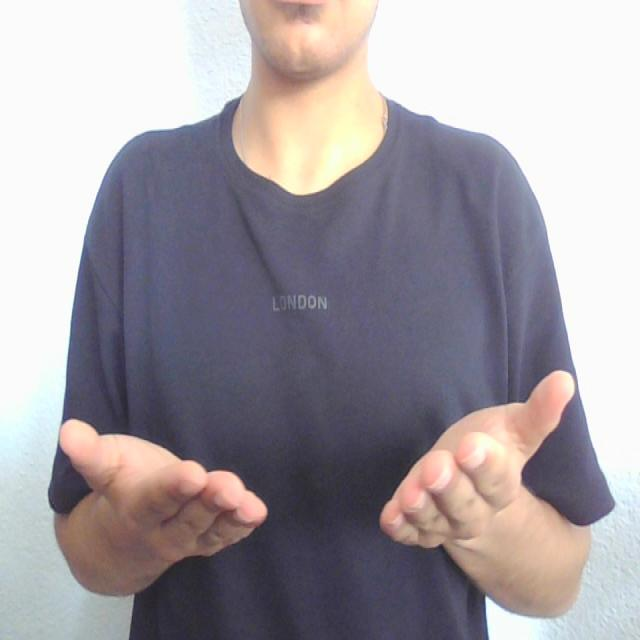Evet: (56, 366, 579, 569)
